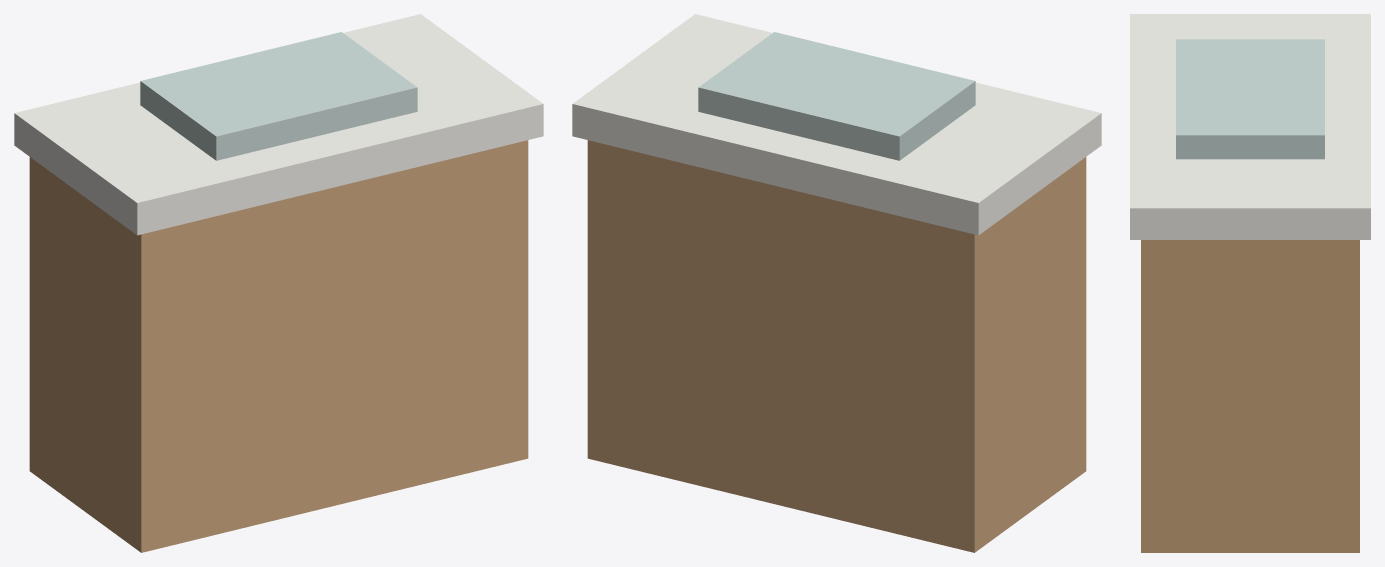
The model's file is vanity.glb.
3 views of the same model, side by side, from view 1: azimuth 30°, elevation 25°; view 2: azimuth 150°, elevation 25°; view 3: azimuth 270°, elevation 25° (orthographic). The views are drawn at different scales.
Bounding box in the file's own units: 1.05 × 0.94 × 0.55.
